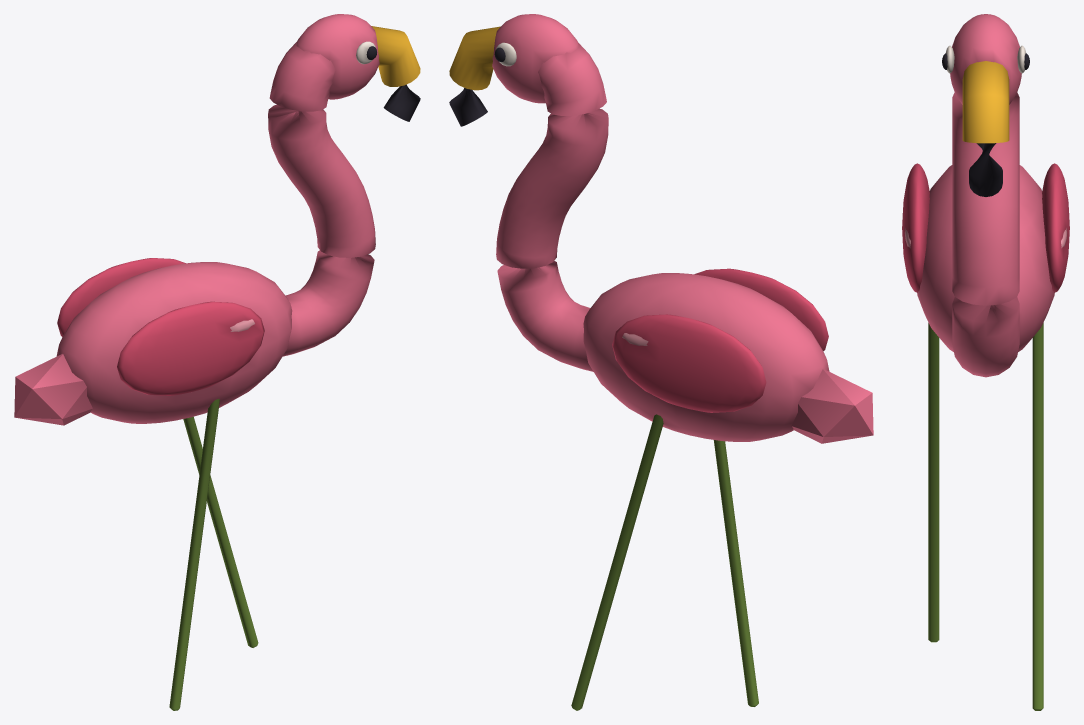
The picture shows the model from 3 angles, left to right: view 1: azimuth 30°, elevation 25°; view 2: azimuth 150°, elevation 25°; view 3: azimuth 270°, elevation 25°; orthographic projection. The views are drawn at different scales.
Visible parts, largest first — view 1: root_pal_flamingoPink, root_pal_flamingoCoral, root_pal_grass, root_pal_schoolBusYellow, root_pal_uiDark; view 2: root_pal_flamingoPink, root_pal_flamingoCoral, root_pal_grass, root_pal_schoolBusYellow, root_pal_uiDark; view 3: root_pal_flamingoPink, root_pal_grass, root_pal_flamingoCoral, root_pal_schoolBusYellow, root_pal_uiDark, root_pal_picketWhite.
Part boxes in pixels (x1,y1,x2,y2): root_pal_flamingoPink: (14, 14, 379, 425); root_pal_flamingoCoral: (57, 258, 264, 395); root_pal_grass: (169, 398, 258, 710); root_pal_schoolBusYellow: (371, 26, 420, 86); root_pal_uiDark: (366, 46, 420, 121); root_pal_flamingoPink: (492, 14, 873, 443); root_pal_flamingoCoral: (612, 268, 828, 412); root_pal_grass: (571, 414, 758, 710); root_pal_schoolBusYellow: (449, 26, 500, 90); root_pal_uiDark: (449, 47, 505, 126); root_pal_flamingoPink: (917, 14, 1054, 377); root_pal_grass: (928, 323, 1043, 710); root_pal_flamingoCoral: (902, 163, 1069, 292); root_pal_schoolBusYellow: (962, 61, 1009, 143); root_pal_uiDark: (942, 53, 1029, 196); root_pal_picketWhite: (946, 45, 1025, 73).
Bounding box in the file's own units: 0.8752 × 1.31 × 0.2742.
